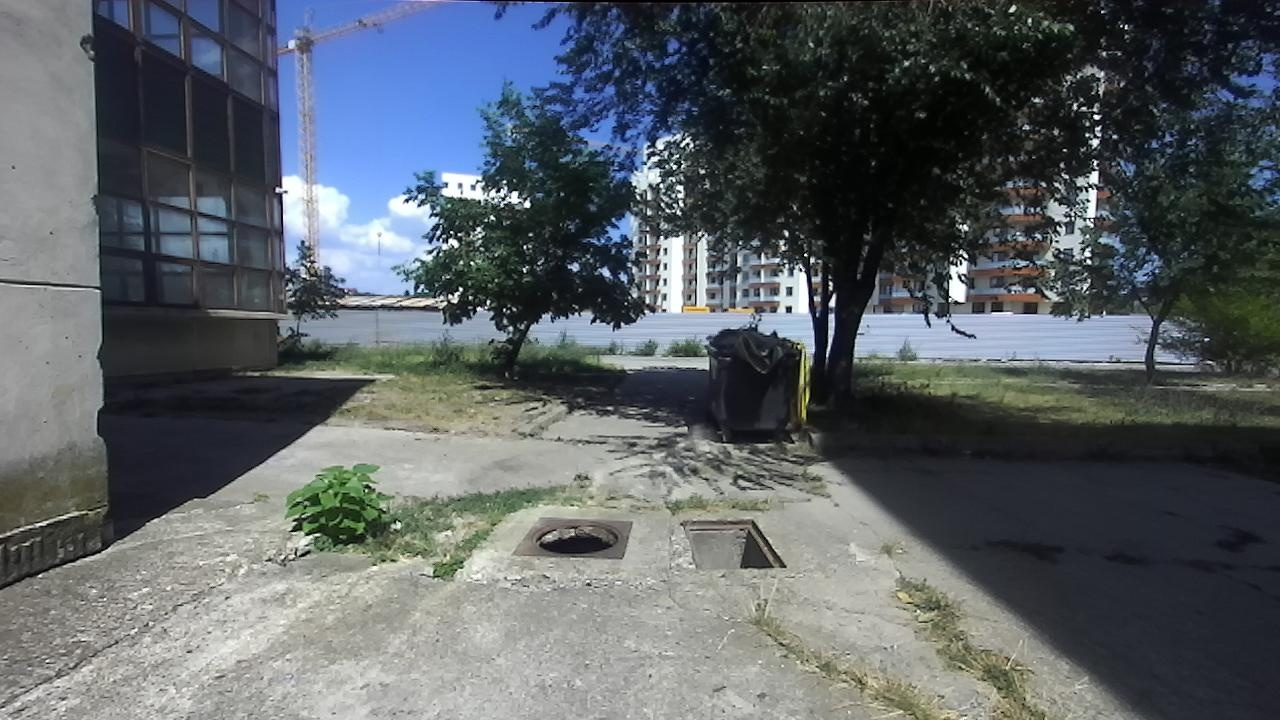drain: (677, 515, 788, 572), (531, 519, 621, 560)
